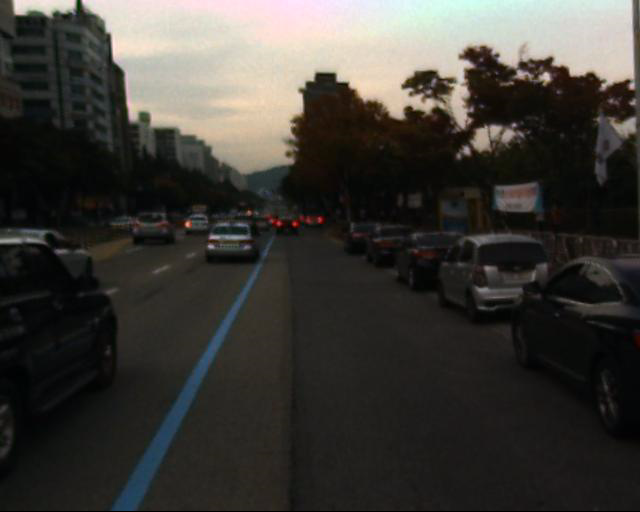person: (576, 200, 596, 246), (533, 198, 554, 241)
